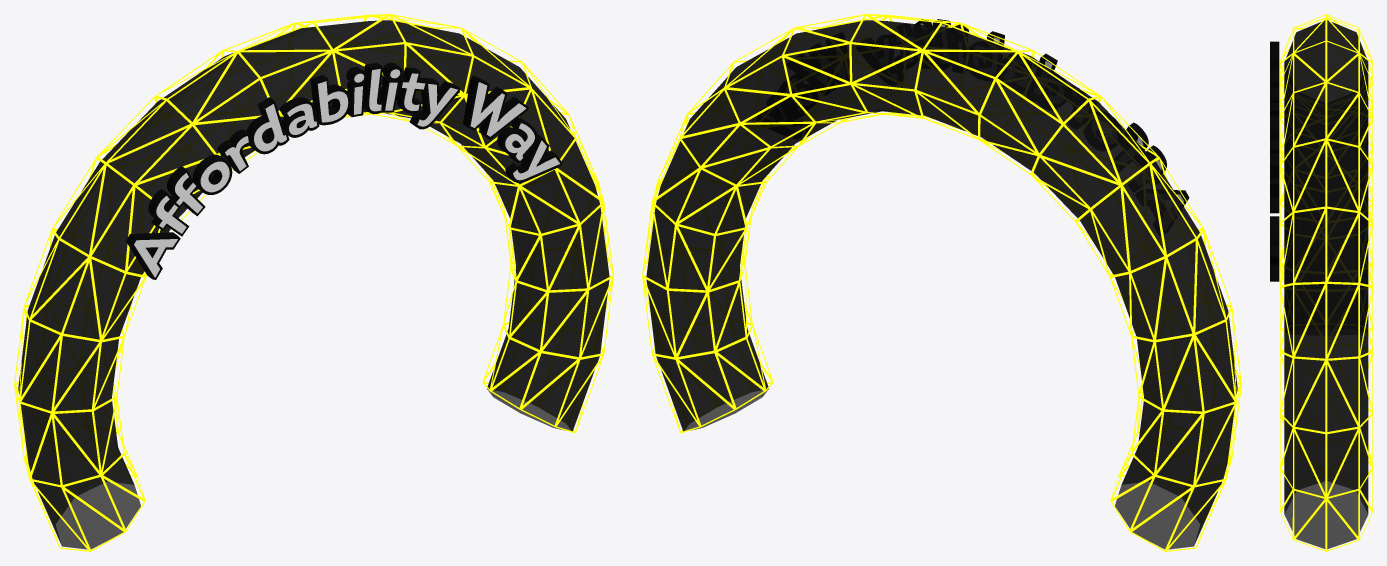
The model's file is TU_Gate_02.fbx.
3 views of the same model, side by side, from view 1: azimuth 30°, elevation 25°; view 2: azimuth 150°, elevation 25°; view 3: azimuth 270°, elevation 25° (orthographic). The views are drawn at different scales.
Visible parts, largest first — view 1: interior.001, wireframe.001, aw; view 2: interior.001, wireframe.001, aw; view 3: interior.001, wireframe.001, aw.
Part boxes in pixels (left/top/right/bottom): interior.001: left=18, top=20, right=609, bottom=549; wireframe.001: left=14, top=14, right=613, bottom=551; aw: left=126, top=62, right=562, bottom=279; interior.001: left=646, top=20, right=1237, bottom=549; wireframe.001: left=642, top=14, right=1241, bottom=551; aw: left=915, top=19, right=1189, bottom=206; interior.001: left=1284, top=20, right=1368, bottom=548; wireframe.001: left=1280, top=14, right=1372, bottom=551; aw: left=1270, top=41, right=1279, bottom=281.
Bounding box in the file's own units: 1803 × 1358 × 314.
